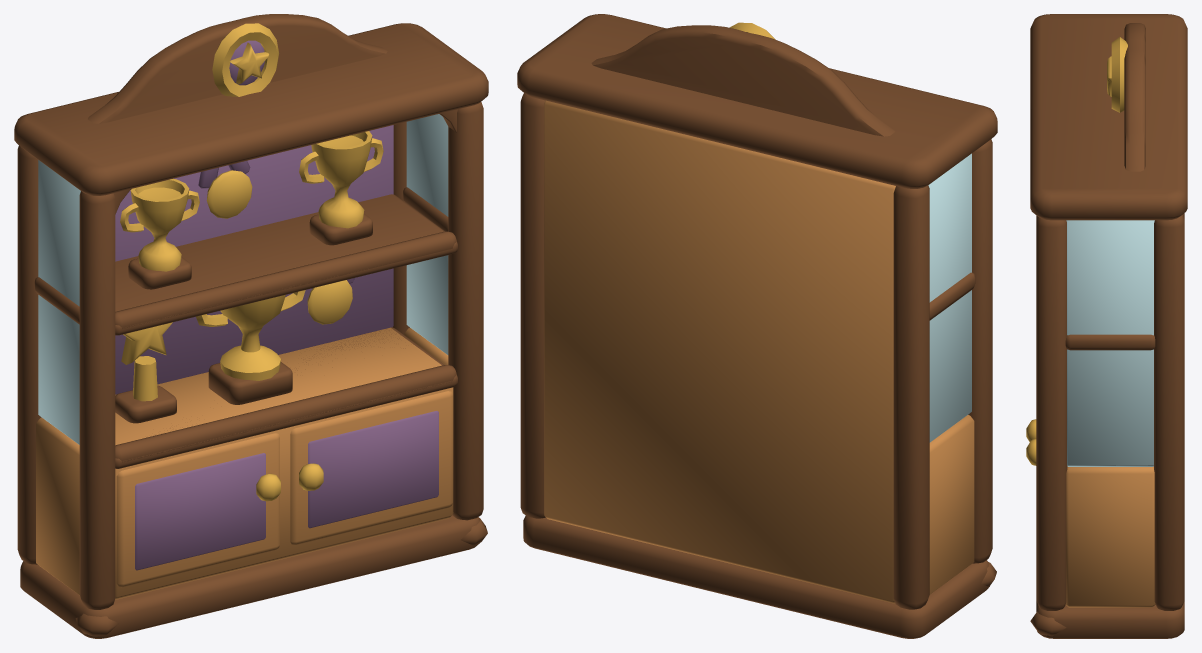
File: ShopTrophyCase.fbx
3 renders of one model, left to right at view 1: azimuth 30°, elevation 25°; view 2: azimuth 150°, elevation 25°; view 3: azimuth 270°, elevation 25°, orthographic. The views are drawn at different scales.
Visible parts, largest first — view 1: ShopTrophyCase; view 2: ShopTrophyCase; view 3: ShopTrophyCase.
Boxes of the visible parts, x1,y1,x2,y2 form: ShopTrophyCase: [14, 14, 488, 638]; ShopTrophyCase: [517, 14, 997, 638]; ShopTrophyCase: [1026, 14, 1187, 638].
Bounding box in the file's own units: 1.44 × 1.82 × 0.5233.
